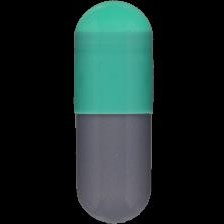0093-5513: (0, 0, 224, 224)
